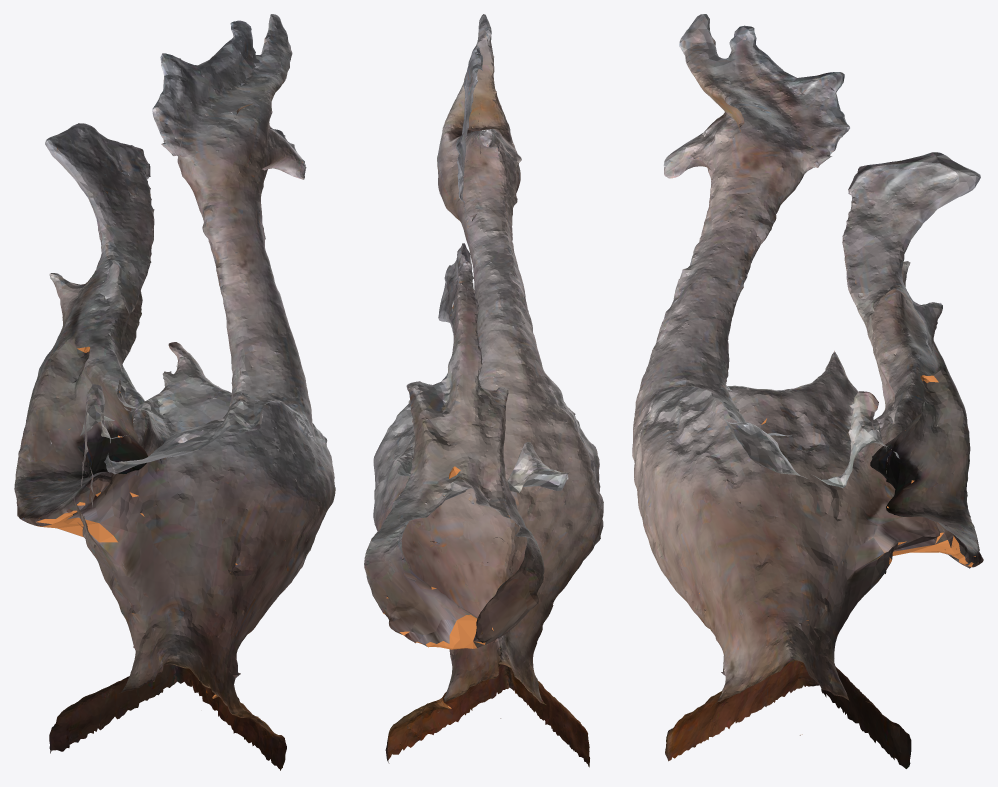
The model's file is anka-v-yeniden-varolus.glb.
3 renders of one model, left to right at view 1: azimuth 30°, elevation 25°; view 2: azimuth 150°, elevation 25°; view 3: azimuth 270°, elevation 25°, orthographic. The views are drawn at different scales.
Visible parts, largest first — view 1: anka_doku.obj; view 2: anka_doku.obj; view 3: anka_doku.obj.
Boxes of the visible parts, x1=… form: anka_doku.obj: x1=14, y1=14, x2=335, y2=770; anka_doku.obj: x1=364, y1=14, x2=603, y2=767; anka_doku.obj: x1=632, y1=14, x2=983, y2=768.
Bounding box in the file's own units: 0.1832 × 0.55 × 0.2321.
Materials: 1 (1 with a texture image).
